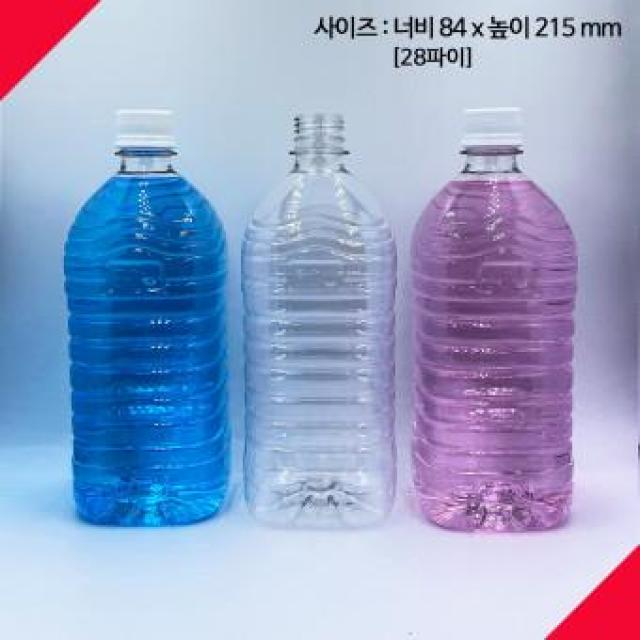bottle: (48, 95, 243, 548), (403, 102, 594, 544)
